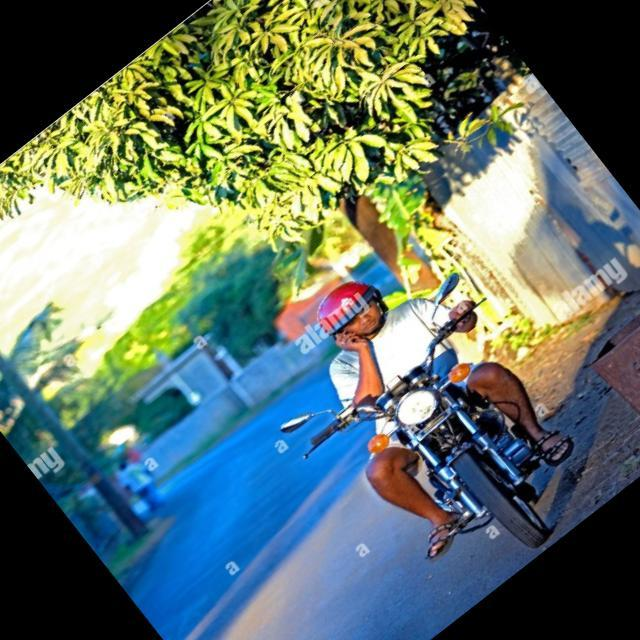USING_MOBILE: (310, 320, 397, 410)
